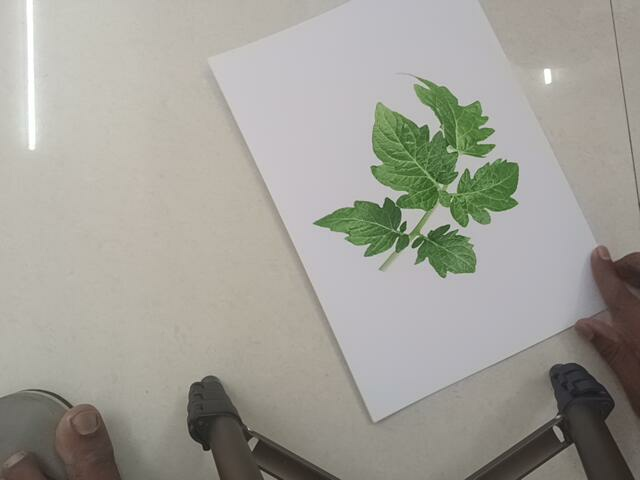Tomamto_Leaf_Healthy: (310, 75, 537, 286)
